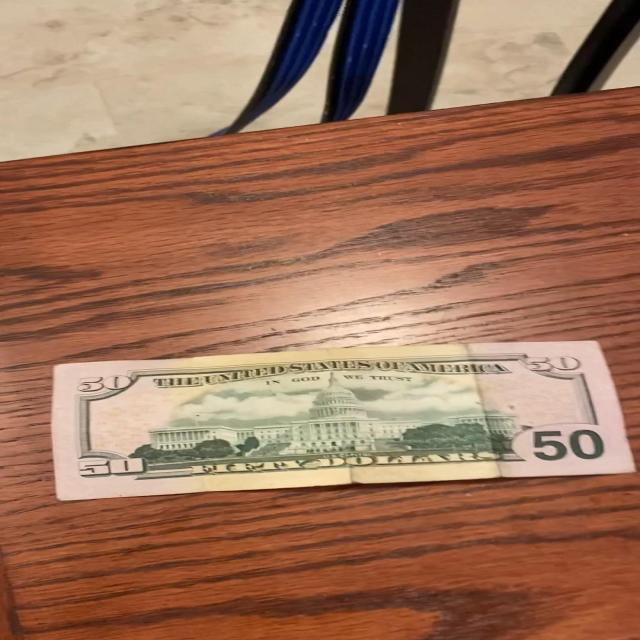50-Back: (49, 333, 637, 510)
